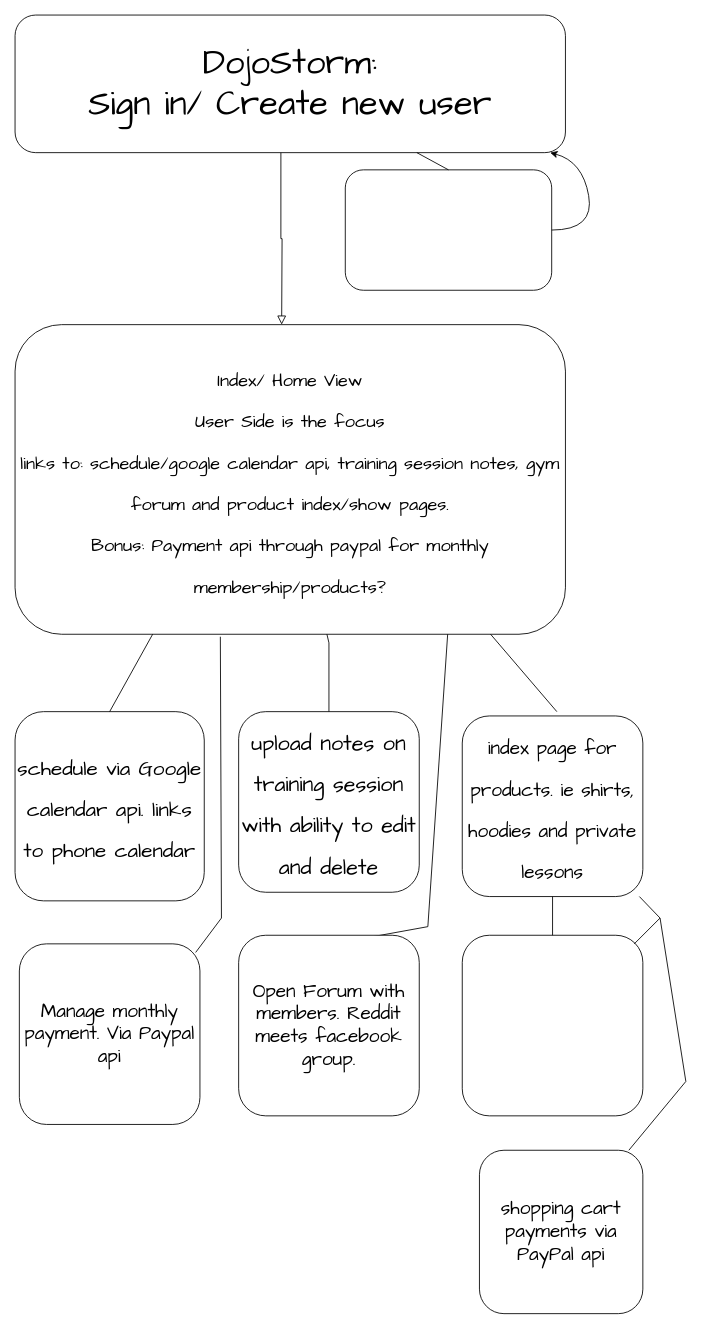
This 702x1329 diagram has some shape labels left out. The centre of each missing label's shape, as x and y in pixels:
"Create user, links back to sign in page" belongs at [448,229].
"show pages for all products" belongs at [552,1025].
